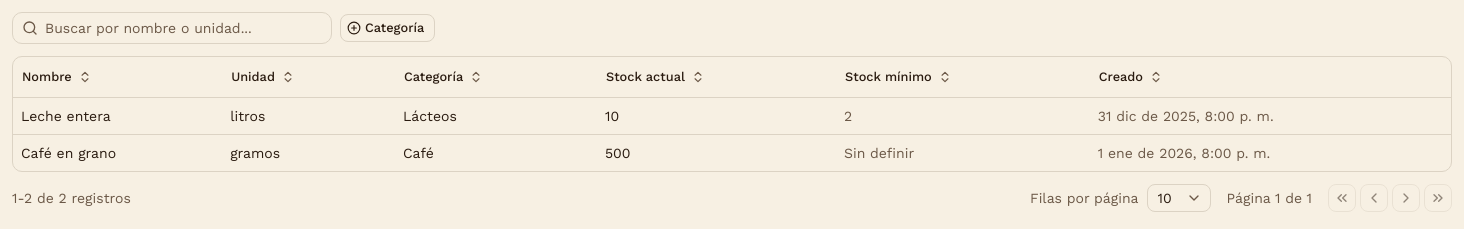
Scenario: IngredientsTable › filtra por texto libre usando el buscador
In the field with placeholder "Buscar por nombre o unidad...": (172, 28) [12,12,332,44], type "café"
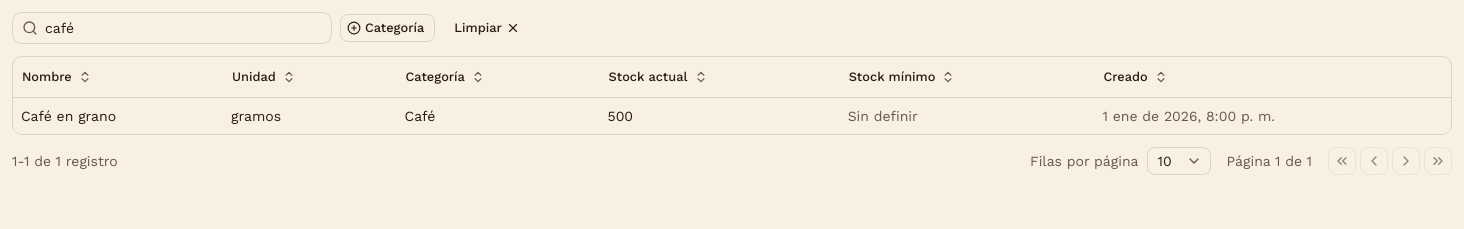
Expected: the text "Café en grano" is shown, [13,97,223,134]
Expected: the text "Leche entera" is gone
